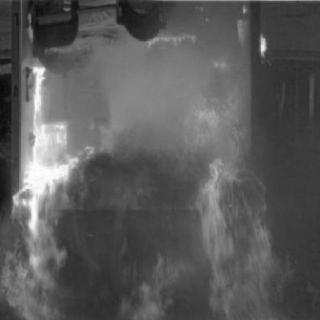Fire: (2, 6, 318, 320)
